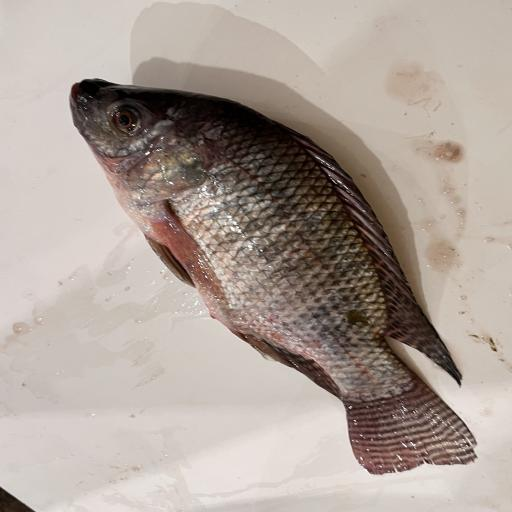Tilapia: (70, 78, 480, 476)
